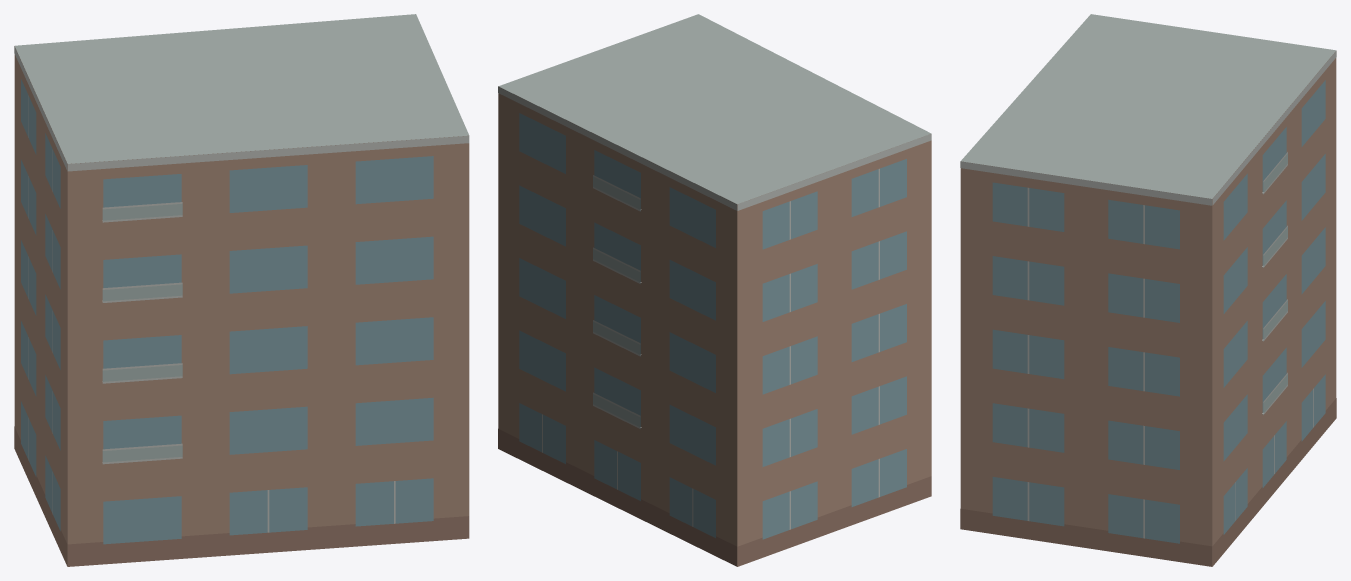
The model's file is survey-upis-32894352.glb.
3 renders of one model, left to right at view 1: azimuth 30°, elevation 25°; view 2: azimuth 150°, elevation 25°; view 3: azimuth 270°, elevation 25°, orthographic. The views are drawn at different scales.
Visible parts, largest first — view 1: survey-upis-32894352.tmp; view 2: survey-upis-32894352.tmp; view 3: survey-upis-32894352.tmp.
Part boxes in pixels (bbox=[...]): survey-upis-32894352.tmp: bbox=[14, 14, 469, 566]; survey-upis-32894352.tmp: bbox=[498, 14, 931, 566]; survey-upis-32894352.tmp: bbox=[960, 14, 1336, 566].
Size of the model in its own units: 14.13 by 13.1 by 12.14.
